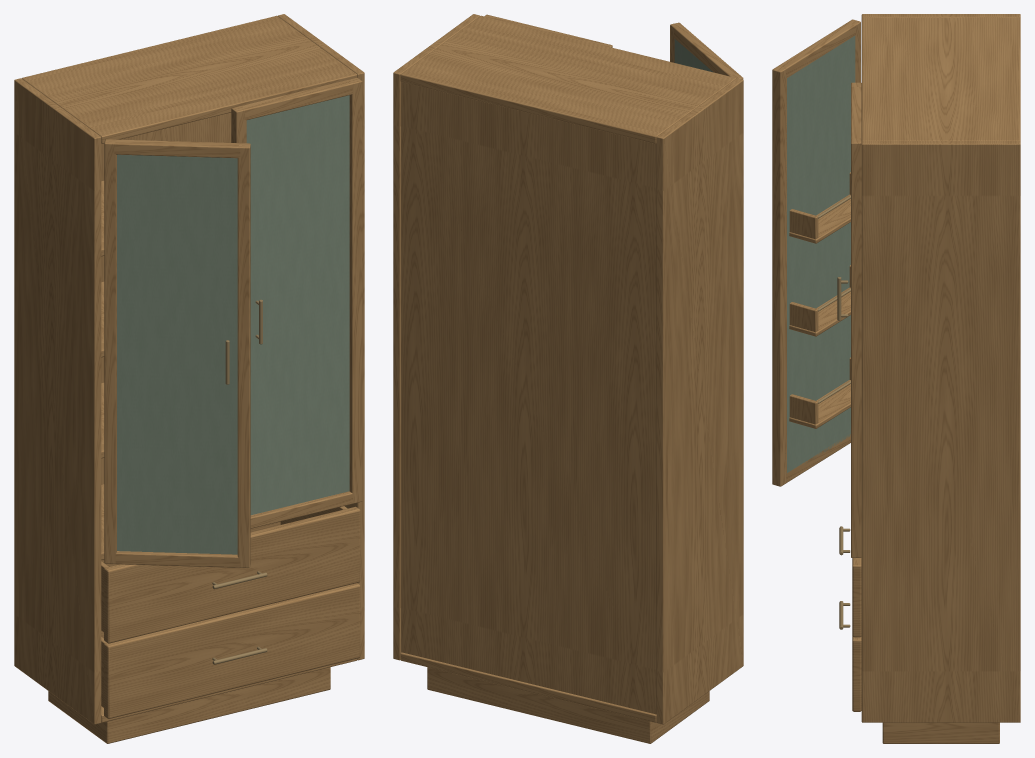
3 renders of one model, left to right at view 1: azimuth 30°, elevation 25°; view 2: azimuth 150°, elevation 25°; view 3: azimuth 270°, elevation 25°, orthographic.
Visible parts, largest first — view 1: Case | side, Pantry | framed door 0 | inset panel, Pantry | framed door 1 | inset panel, Case | horizontal panel.001, Pantry | deep drawer 0 | front, Pantry | deep drawer 1 | front, Recessed structural plinth, Pantry | framed door 0 | stile.001, Pantry | framed door 1 | stile.001, Pantry | framed door 0 | stile, Case | side.001, Case | inset back (+5 smaller); view 2: Case | inset back, Case | side, Case | horizontal panel.001, Recessed structural plinth, Case | side.001, Case | horizontal panel, Pantry | framed door 0 | rail.001; view 3: Case | side.001, Pantry | framed door 0 | inset panel, Case | horizontal panel.001, Pantry | framed door 0 | stile.001, Pantry | framed door 1 | stile.001, Recessed structural plinth, Pantry | framed door 0 | rail.001, Door organizer | shallow ledge, Door organizer | shallow ledge.002, Door organizer | shallow ledge.001, Pantry | deep drawer 1 | front, Pantry | deep drawer 0 | front (+6 smaller).
Part boxes in pixels (bbox=[...]): Case | side: bbox=[14, 78, 101, 724]; Pantry | framed door 0 | inset panel: bbox=[117, 154, 237, 554]; Pantry | framed door 1 | inset panel: bbox=[246, 95, 349, 515]; Case | horizontal panel.001: bbox=[22, 15, 357, 143]; Pantry | deep drawer 0 | front: bbox=[104, 583, 360, 718]; Pantry | deep drawer 1 | front: bbox=[104, 506, 360, 643]; Recessed structural plinth: bbox=[48, 667, 330, 743]; Pantry | framed door 0 | stile.001: bbox=[237, 143, 250, 567]; Pantry | framed door 1 | stile.001: bbox=[348, 77, 362, 503]; Pantry | framed door 0 | stile: bbox=[104, 139, 116, 563]; Case | side.001: bbox=[278, 14, 364, 660]; Case | inset back: bbox=[101, 112, 231, 484]; Case | inset back: bbox=[401, 82, 656, 714]; Case | side: bbox=[656, 78, 743, 724]; Case | horizontal panel.001: bbox=[400, 15, 735, 143]; Recessed structural plinth: bbox=[427, 667, 709, 743]; Case | side.001: bbox=[393, 14, 479, 660]; Case | horizontal panel: bbox=[400, 652, 656, 722]; Pantry | framed door 0 | rail.001: bbox=[674, 26, 737, 75]; Case | side.001: bbox=[861, 141, 1020, 722]; Pantry | framed door 0 | inset panel: bbox=[786, 36, 855, 472]; Case | horizontal panel.001: bbox=[861, 17, 1020, 141]; Pantry | framed door 0 | stile.001: bbox=[772, 65, 786, 486]; Pantry | framed door 1 | stile.001: bbox=[851, 138, 861, 557]; Recessed structural plinth: bbox=[882, 722, 999, 743]; Pantry | framed door 0 | rail.001: bbox=[779, 23, 855, 78]; Door organizer | shallow ledge: bbox=[789, 380, 850, 428]; Door organizer | shallow ledge.002: bbox=[789, 194, 850, 243]; Door organizer | shallow ledge.001: bbox=[789, 287, 850, 336]; Pantry | deep drawer 1 | front: bbox=[852, 558, 861, 637]; Pantry | deep drawer 0 | front: bbox=[852, 636, 861, 711].
Size of the model in its own units: 0.912 by 2 by 0.7348.
5 materials, 2 textured.
